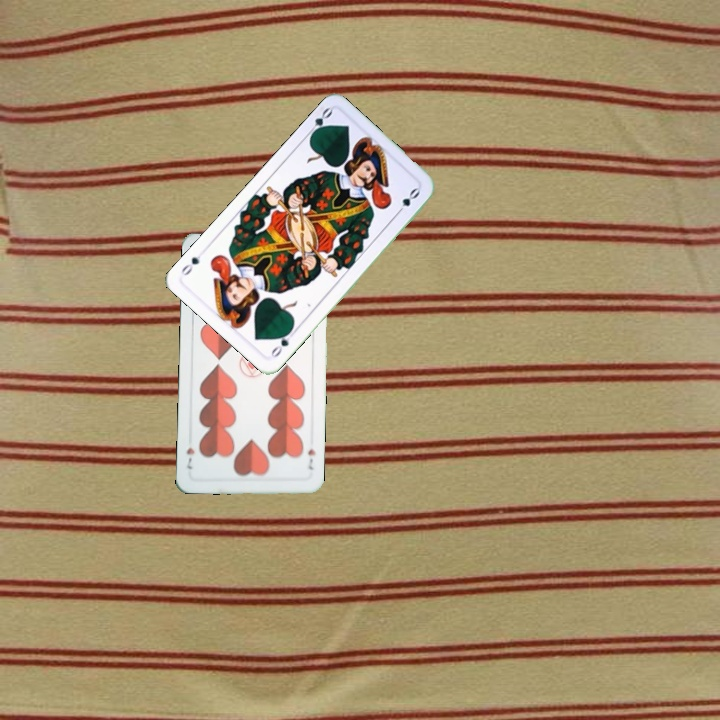GO: (302, 103, 335, 140), (267, 325, 298, 360)
H7: (304, 445, 317, 472)
